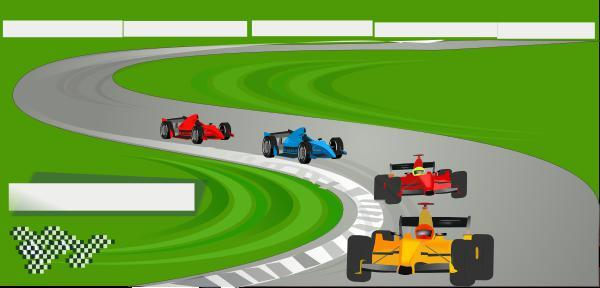car: (342, 202, 494, 288), (362, 143, 478, 210), (257, 121, 351, 168), (151, 106, 238, 145)
